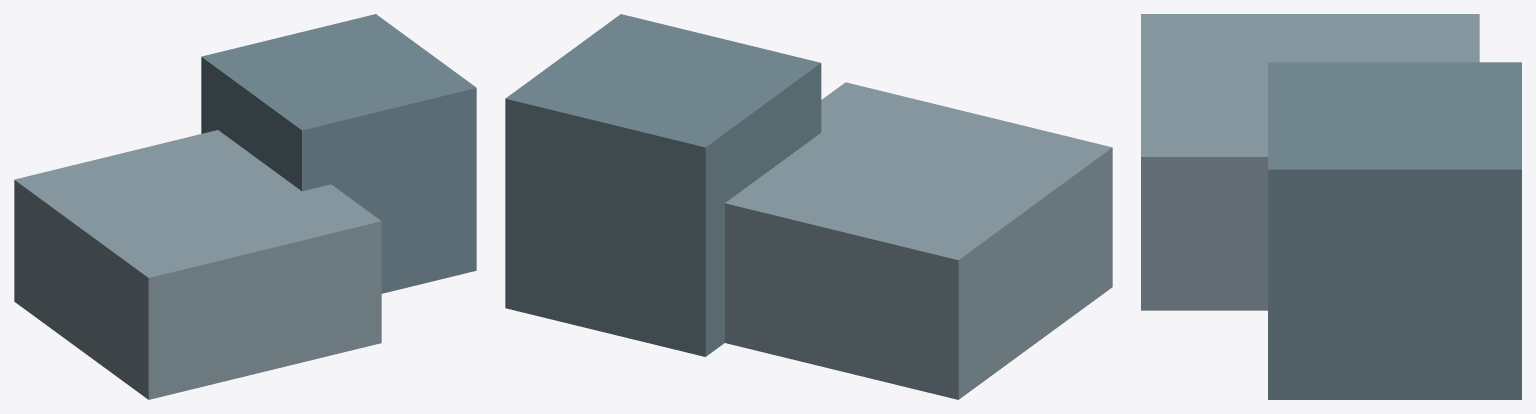
The model's file is stone_outcrop.obj.
3 renders of one model, left to right at view 1: azimuth 30°, elevation 25°; view 2: azimuth 150°, elevation 25°; view 3: azimuth 270°, elevation 25°, orthographic. The views are drawn at different scales.
Bounding box in the file's own units: 3.25 × 1.5 × 2.25.
